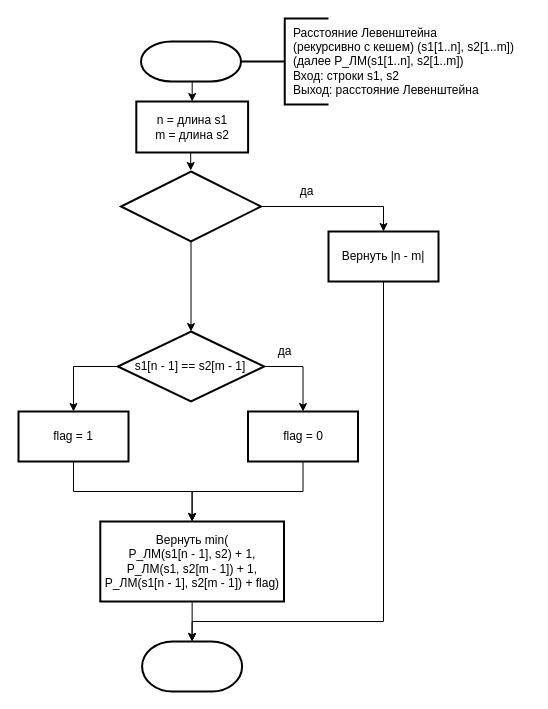
Some shapes in this 548 by 709 pixel diagram are drawn without their labels. The shapes that lost their labels are listed below. From the top down, each one's centre as x and y in pixels, then its label:
At [191,61]: "Начало".
At [191,206]: "n == 0 или m == 0".
At [192,666]: "Конец".
